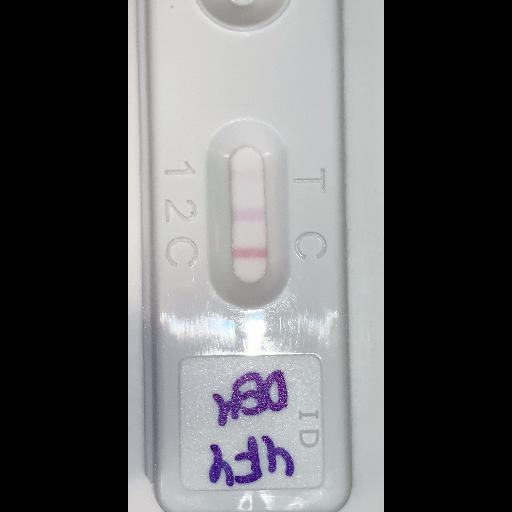Pos: (137, 0, 351, 511)
